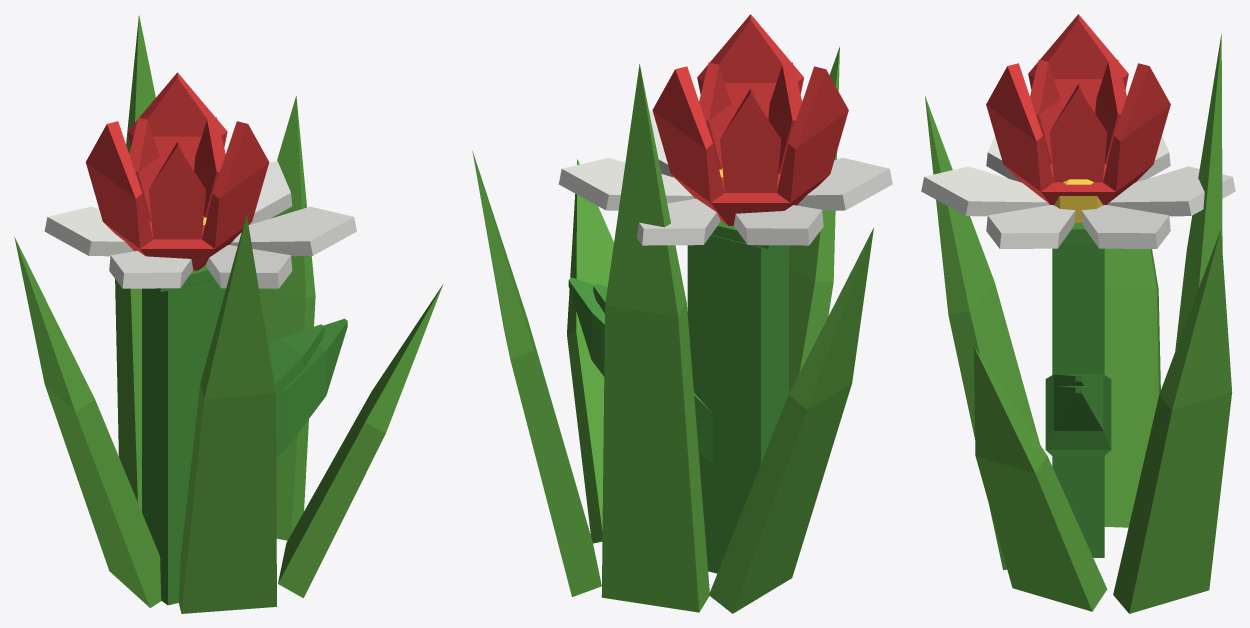
The model's file is w1_plants.fbx.
3 views of the same model, side by side, from view 1: azimuth 30°, elevation 25°; view 2: azimuth 150°, elevation 25°; view 3: azimuth 270°, elevation 25° (orthographic). The views are drawn at different scales.
Parts seen in each view (by area): view 1: GrassTuft.Tuft, Tulip.Bloom, Tulip.Stem, Daisy.Petals, Daisy.Stem; view 2: GrassTuft.Tuft, Tulip.Bloom, Tulip.Stem, Daisy.Petals, Daisy.Stem; view 3: GrassTuft.Tuft, Tulip.Bloom, Daisy.Stem, Daisy.Petals, Daisy.Centre, Tulip.Stem.
Part boxes in pixels (x1,y1,x2,y2): GrassTuft.Tuft: (14,15,443,613); Tulip.Bloom: (85,72,269,270); Tulip.Stem: (142,270,324,605); Daisy.Petals: (44,160,356,288); Daisy.Stem: (186,265,347,460); GrassTuft.Tuft: (472,46,873,613); Tulip.Bloom: (652,14,848,225); Tulip.Stem: (593,220,788,572); Daisy.Petals: (559,110,892,245); Daisy.Stem: (568,221,742,573); GrassTuft.Tuft: (925,33,1232,613); Tulip.Bloom: (986,14,1170,204); Daisy.Stem: (1045,223,1111,557); Daisy.Petals: (921,136,1235,248); Daisy.Centre: (1054,179,1102,222); Tulip.Stem: (1045,374,1111,389).
Size of the model in its own units: 1.09 by 1.55 by 0.8373.
